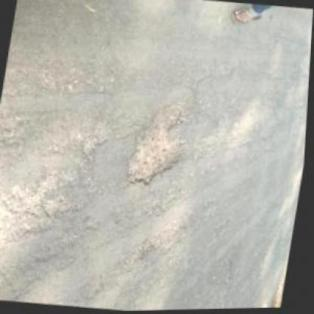Hueco: (122, 94, 194, 192)
